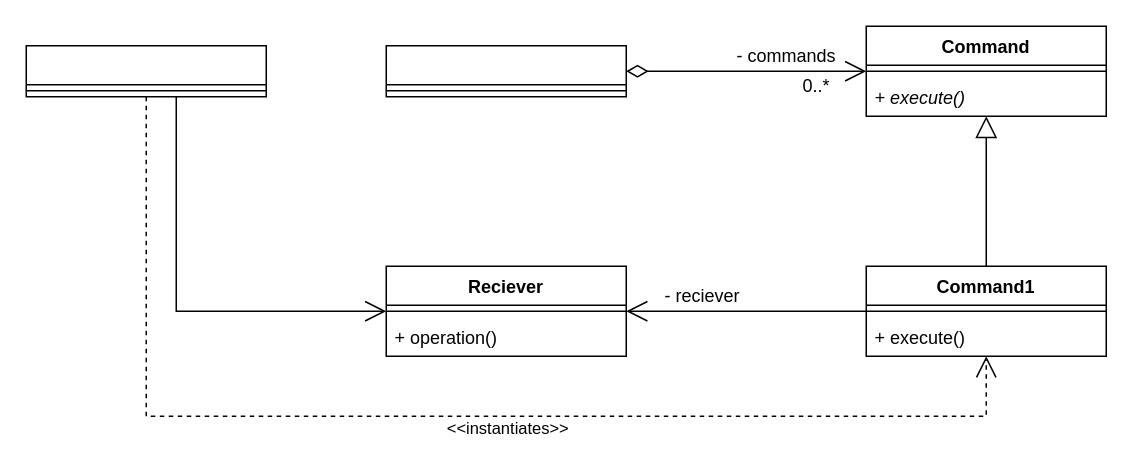
The diagram is 1133 pixels wide and 464 high, and some of its shapes have lost their labels. The centre of each missing label's shape, as x and y in pixels:
"Client" belongs at [145,70].
"Invoker" belongs at [505,70].
